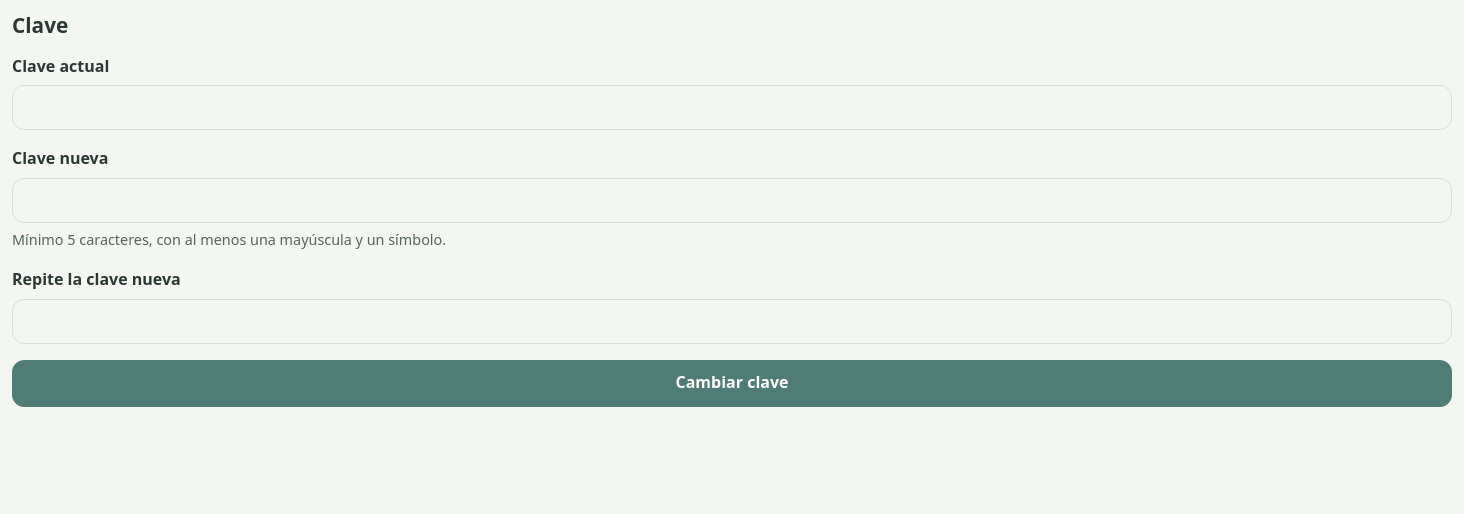
Test case: valida los tres campos antes de enviar
The image size is (1464, 514).
Type "abc" into the password field labelled "Clave nueva". click: (732, 200)
box: [12, 178, 1452, 223]
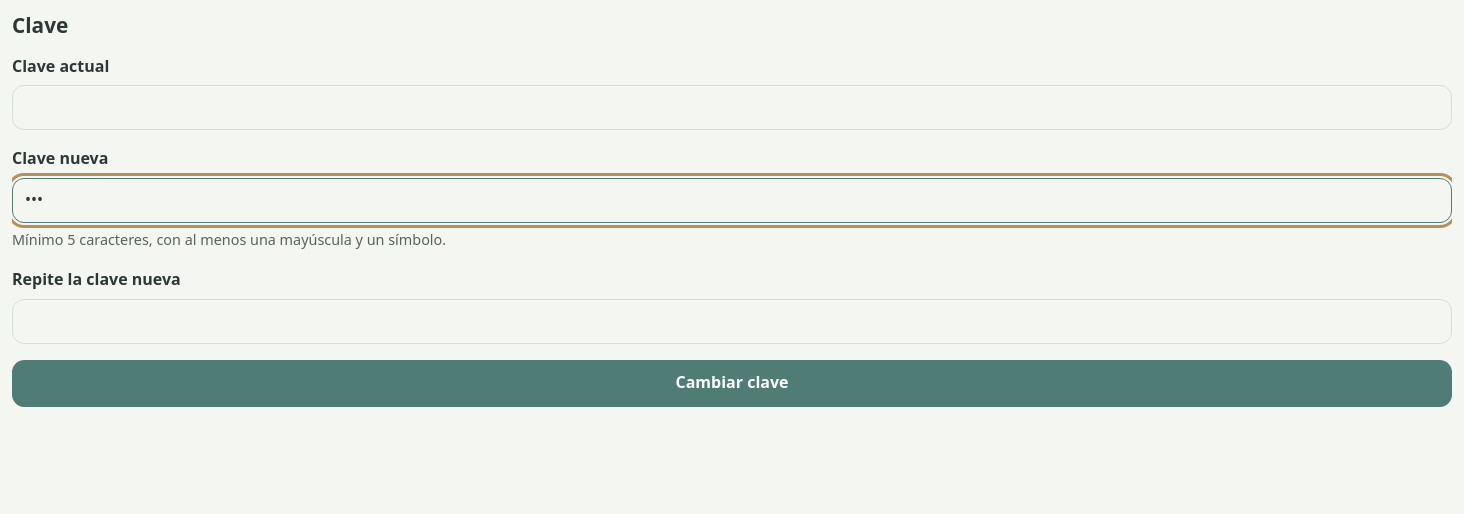
Type "abd" into the password field labelled "Repite la clave nueva". click: (732, 321)
box: [12, 299, 1452, 344]
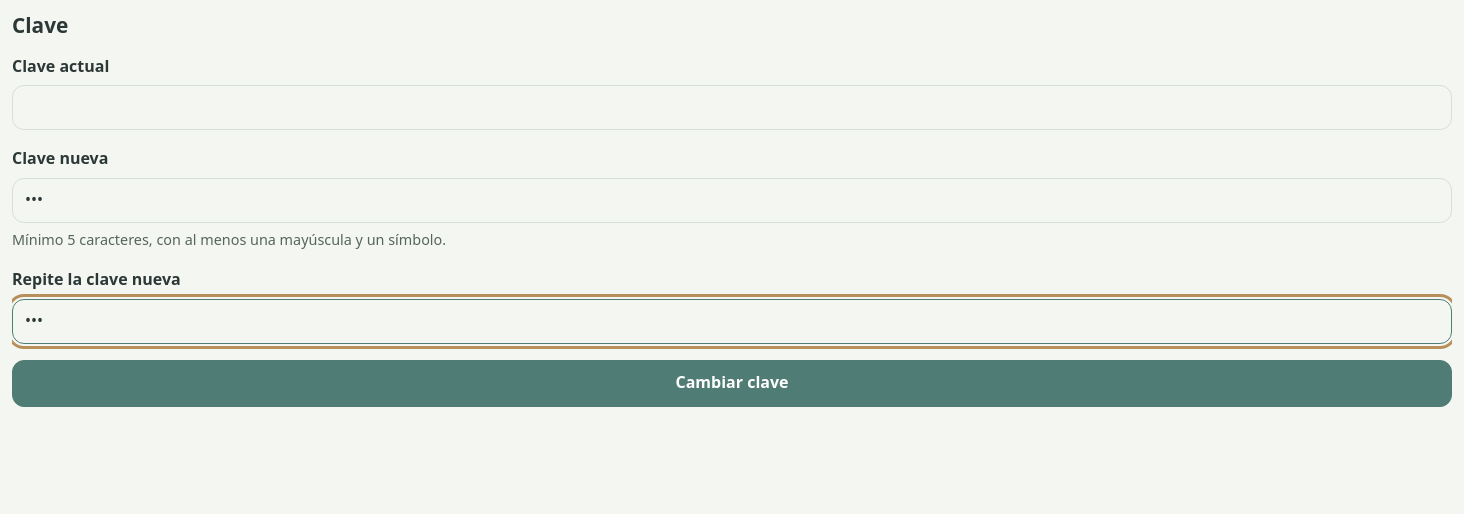
Click the button "Cambiar clave". click: (732, 383)
box: [12, 360, 1452, 407]
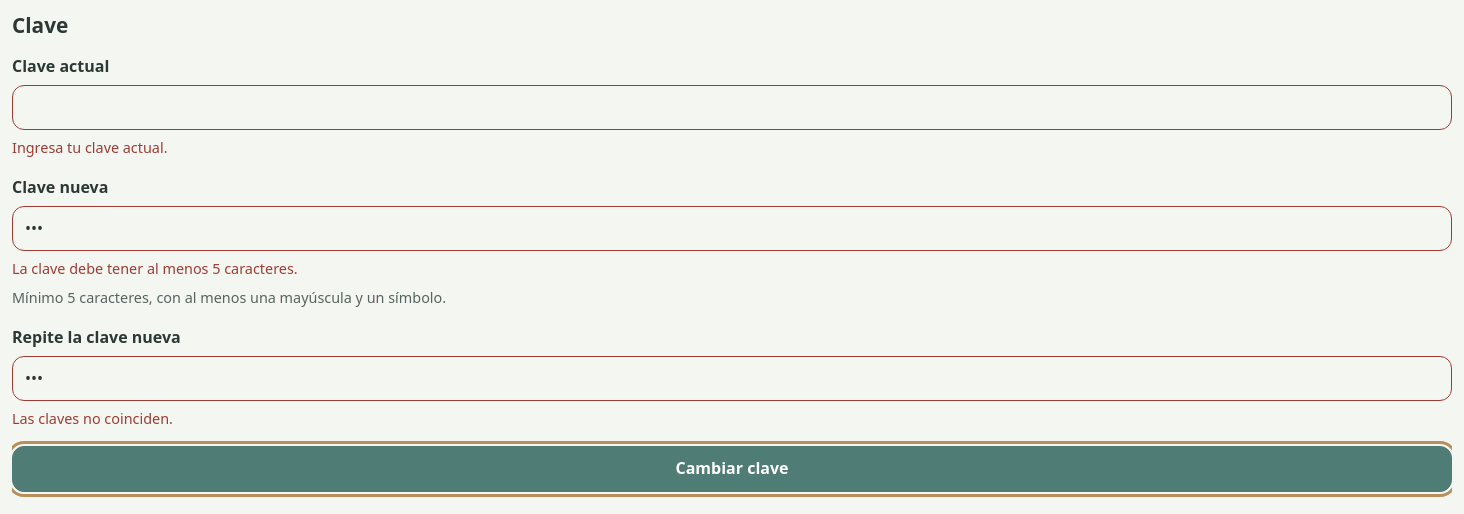
expect the text "Ingresa tu clave actual." is shown: met, box [12, 138, 168, 157]
expect the text "La clave debe tener al menos 5 caracteres." is shown: met, box [12, 259, 298, 278]
expect the text "Las claves no coinciden." is shown: met, box [12, 409, 173, 428]
